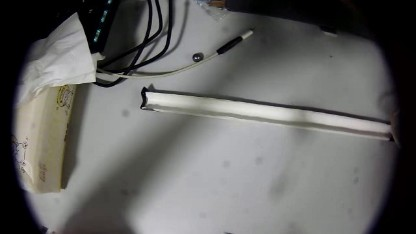gangzhu: (190, 51, 201, 62)
